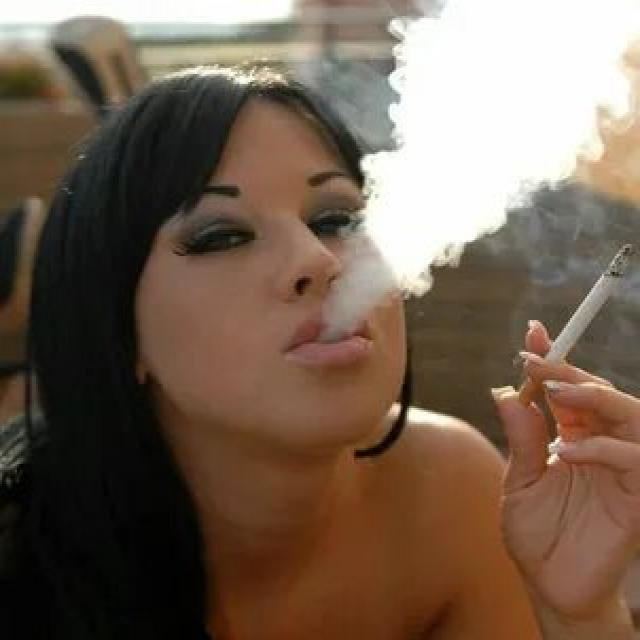smoke: (519, 240, 640, 402)
